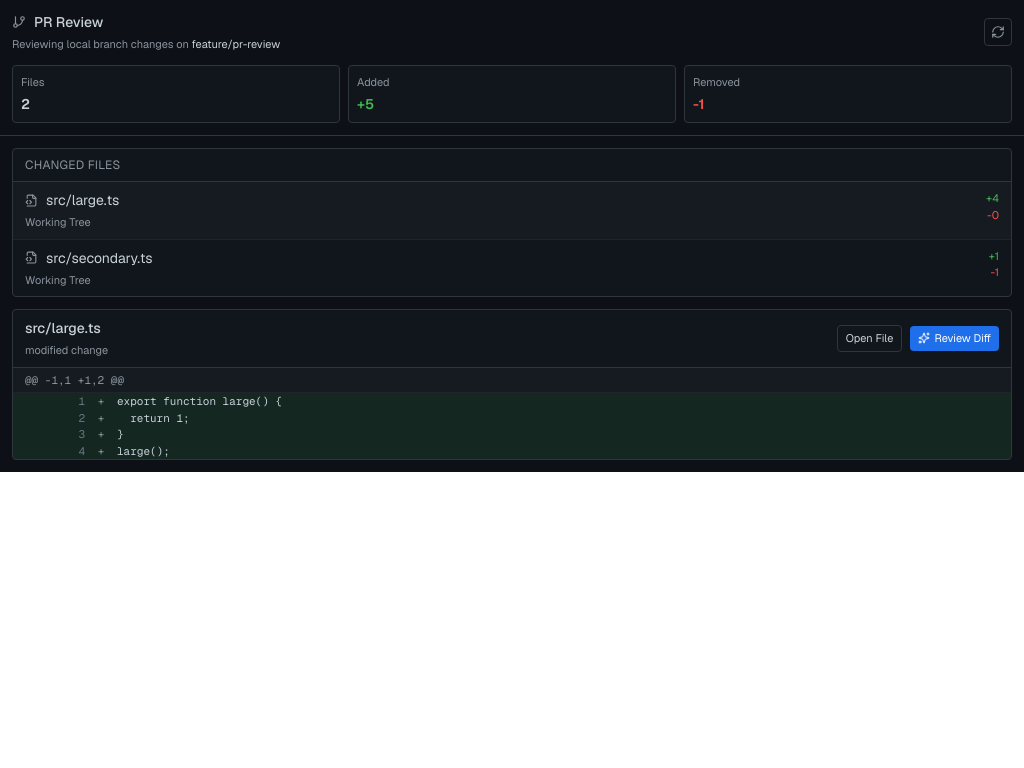
Test case: PRReviewPanel › reviews the currently selected file when multiple files are present
The width and height of the screenshot is (1024, 768).
Expected: the text "src/secondary.ts" is shown, x1=46 y1=248 x2=153 y2=268
Expected: the text "Changed Files" is shown, x1=25 y1=157 x2=120 y2=173
What coordinates should you click on to do the following:
click the button "src/secondary.ts Working Tree +1 -1"
I would click on:
 (99, 258)
Its box is x1=13 y1=240 x2=1011 y2=296.
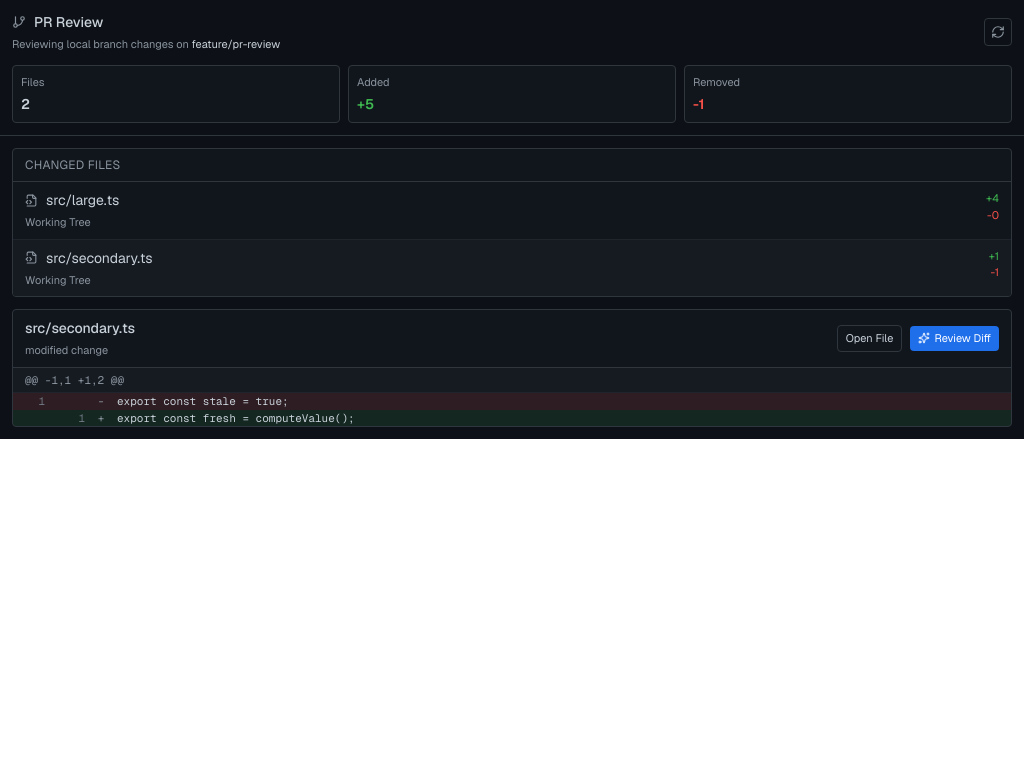
What coordinates should you click on to do the following:
click the button "Review Diff"
I would click on:
 (955, 338)
Its box is x1=910 y1=326 x2=999 y2=350.
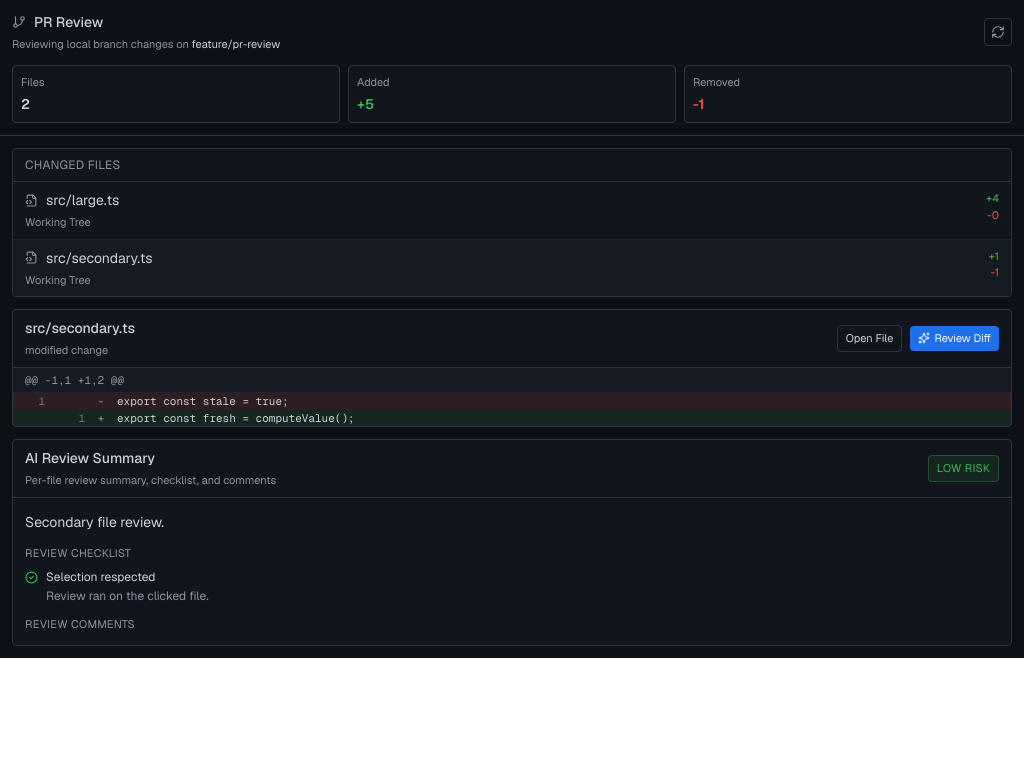
Expected: the text "Secondary file review." is shown, x1=25 y1=512 x2=164 y2=530
